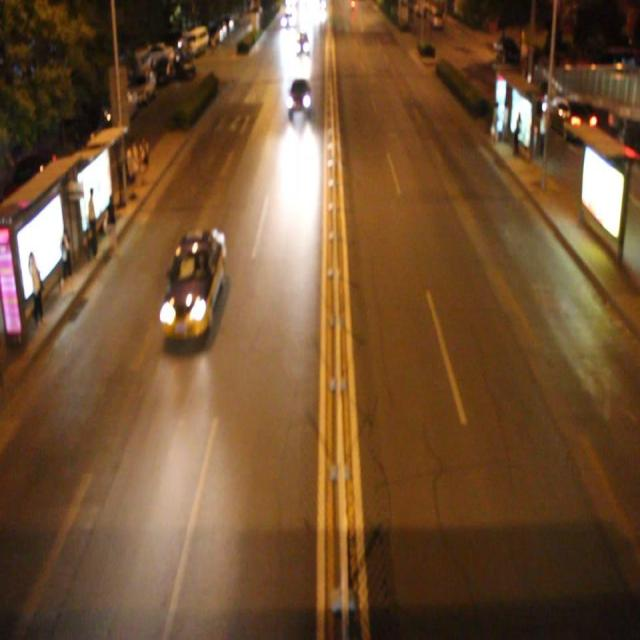car: (157, 230, 228, 337), (286, 73, 313, 114)
